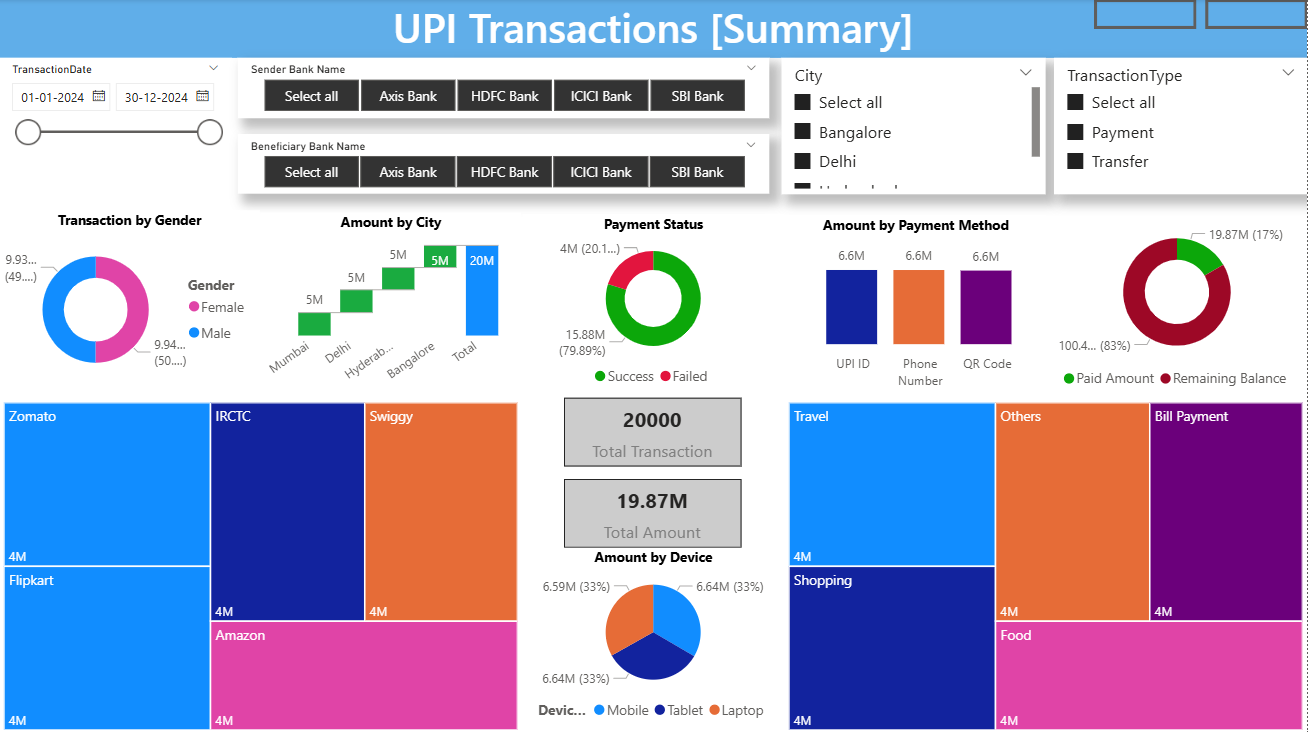

The page's visual inventory and layout, read from the dashboard file:
{"tool":"powerbi","page":{"name":"Summary","canvas":[1280,720],"ordinal":2},"visuals":[{"type":"textbox","title":"UPI Transactions [Summary]","box":[0,0,1280.3,57.5],"z":0},{"type":"slicer","fields":{"Values":["Sheet1.TransactionDate"]},"box":[0,57.5,227.4,149.2],"z":1000},{"type":"slicer","fields":{"Values":["Sheet1.BankNameSent"]},"box":[234,58,520,59],"z":2000},{"type":"slicer","fields":{"Values":["Sheet1.BankNameReceived"]},"box":[233.6,132.1,519.7,58.7],"z":3000},{"type":"slicer","fields":{"Values":["Sheet1.City"]},"box":[765.5,57.5,258,133.3],"z":4000},{"type":"slicer","fields":{"Values":["Sheet1.TransactionType"]},"box":[1032.1,57.5,248.2,133.3],"z":5000},{"type":"donutChart","title":"Transaction by Gender","fields":{"Category":["Sheet1.Gender"],"Y":["Sum(Sheet1.Amount)"]},"box":[0,206.7,255.6,177.3],"z":6000},{"type":"waterfallChart","title":"Amount by City","fields":{"Y":["Sum(Sheet1.Amount)"],"Category":["Sheet1.City"]},"box":[255.6,209.1,255.6,177.3],"z":7000},{"type":"donutChart","title":"Payment Status","fields":{"Category":["Sheet1.Status"],"Y":["Sum(Sheet1.Amount)"]},"box":[512.4,210.3,255.6,177.3],"z":8000},{"type":"clusteredColumnChart","title":"Amount by Payment Method","fields":{"Y":["Sum(Sheet1.Amount)"],"Category":["Sheet1.PaymentMethod"]},"box":[769.2,211.6,255.6,177.3],"z":9000},{"type":"donutChart","title":"Transaction by Gender","fields":{"Y":["Sum(Sheet1.Amount)","Sum(Sheet1.RemainingBalance)"]},"box":[1024.7,212.8,255.6,177.3],"z":10000},{"type":"treemap","fields":{"Group":["Sheet1.MerchantName"],"Values":["Sum(Sheet1.Amount)"]},"box":[0,390.1,512.4,330.2],"z":11000},{"type":"treemap","fields":{"Values":["Sum(Sheet1.Amount)"],"Group":["Sheet1.Purpose"]},"box":[767.9,390.1,512.4,330.2],"z":12000},{"type":"card","fields":{"Values":["Count(Sheet1.TransactionID)"]},"box":[552.7,390.1,173.6,67.3],"z":13000},{"type":"card","fields":{"Values":["Sum(Sheet1.Amount)"]},"box":[552.7,469.6,173.6,67.3],"z":14000},{"type":"pieChart","title":"Amount by Device","fields":{"Y":["Sum(Sheet1.Amount)"],"Category":["Sheet1.DeviceType"]},"box":[512.4,536.8,255.6,177.3],"z":15000},{"type":"actionButton","title":"Trending","box":[1071.2,0,100.3,29.3],"z":16000},{"type":"actionButton","box":[1180,0,100.3,29.3],"z":17000}]}

Visuals, with their boxes in screenshot pixels (x1, y1, x2, y2), scaled from the page's 1280x720 canvas onto the 1308x732 screenshot:
"UPI Transactions [Summary]" textbox: left=0, top=0, right=1307, bottom=58
slicer - Sheet1.TransactionDate: left=0, top=58, right=232, bottom=210
slicer - Sheet1.BankNameSent: left=239, top=59, right=770, bottom=119
slicer - Sheet1.BankNameReceived: left=239, top=134, right=770, bottom=194
slicer - Sheet1.City: left=782, top=58, right=1046, bottom=194
slicer - Sheet1.TransactionType: left=1055, top=58, right=1307, bottom=194
"Transaction by Gender" donutChart: left=0, top=210, right=261, bottom=390
"Amount by City" waterfallChart: left=261, top=213, right=522, bottom=393
"Payment Status" donutChart: left=524, top=214, right=785, bottom=394
"Amount by Payment Method" clusteredColumnChart: left=786, top=215, right=1047, bottom=395
"Transaction by Gender" donutChart: left=1047, top=216, right=1307, bottom=397
treemap - Sheet1.MerchantName x Sum(Sheet1.Amount): left=0, top=397, right=524, bottom=731
treemap - Sum(Sheet1.Amount) x Sheet1.Purpose: left=785, top=397, right=1307, bottom=731
card - Count(Sheet1.TransactionID): left=565, top=397, right=742, bottom=465
card - Sum(Sheet1.Amount): left=565, top=477, right=742, bottom=546
"Amount by Device" pieChart: left=524, top=546, right=785, bottom=726
"Trending" actionButton: left=1095, top=0, right=1197, bottom=30
actionButton: left=1206, top=0, right=1307, bottom=30
